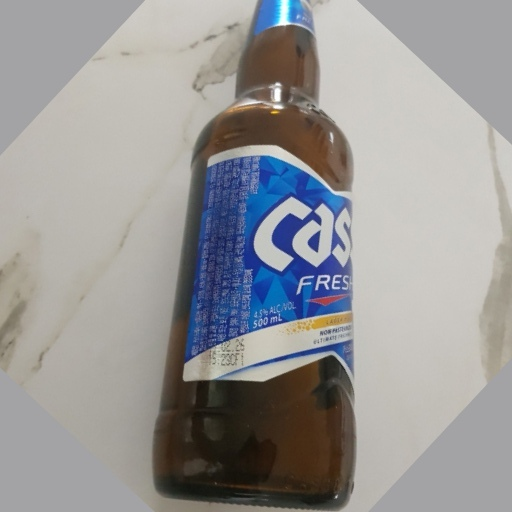Glass_1: (147, 2, 360, 511)
